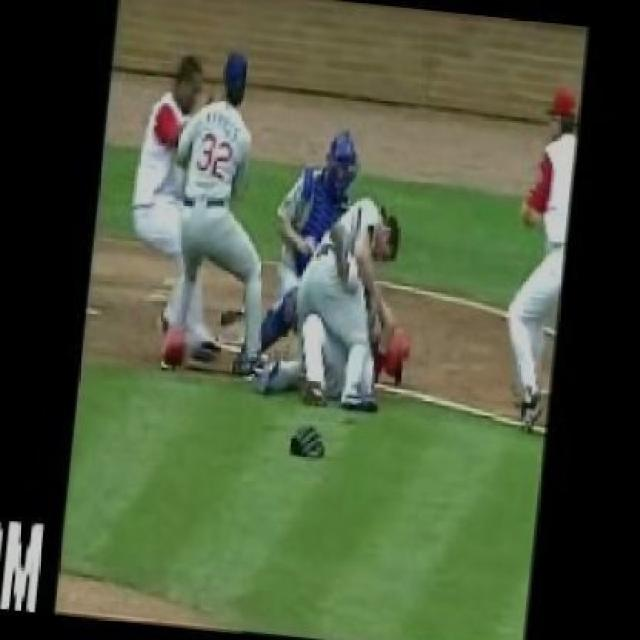fight: (126, 48, 279, 383), (243, 121, 411, 412)
non-fight: (488, 49, 638, 637)
